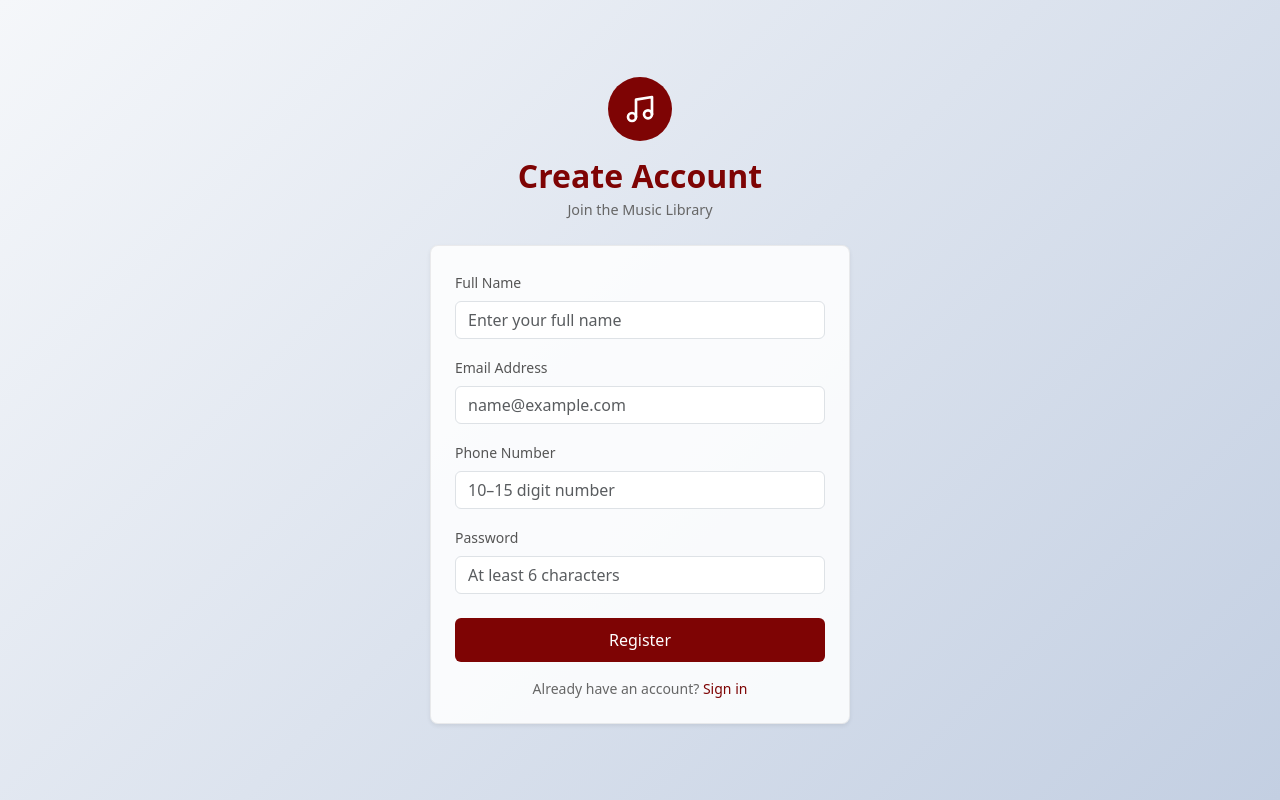
Register Page › should validate email format
The image size is (1280, 800).
Type "bademail" into the field with placeholder "name@example.com". click: (640, 405)
box: [455,386,825,424]
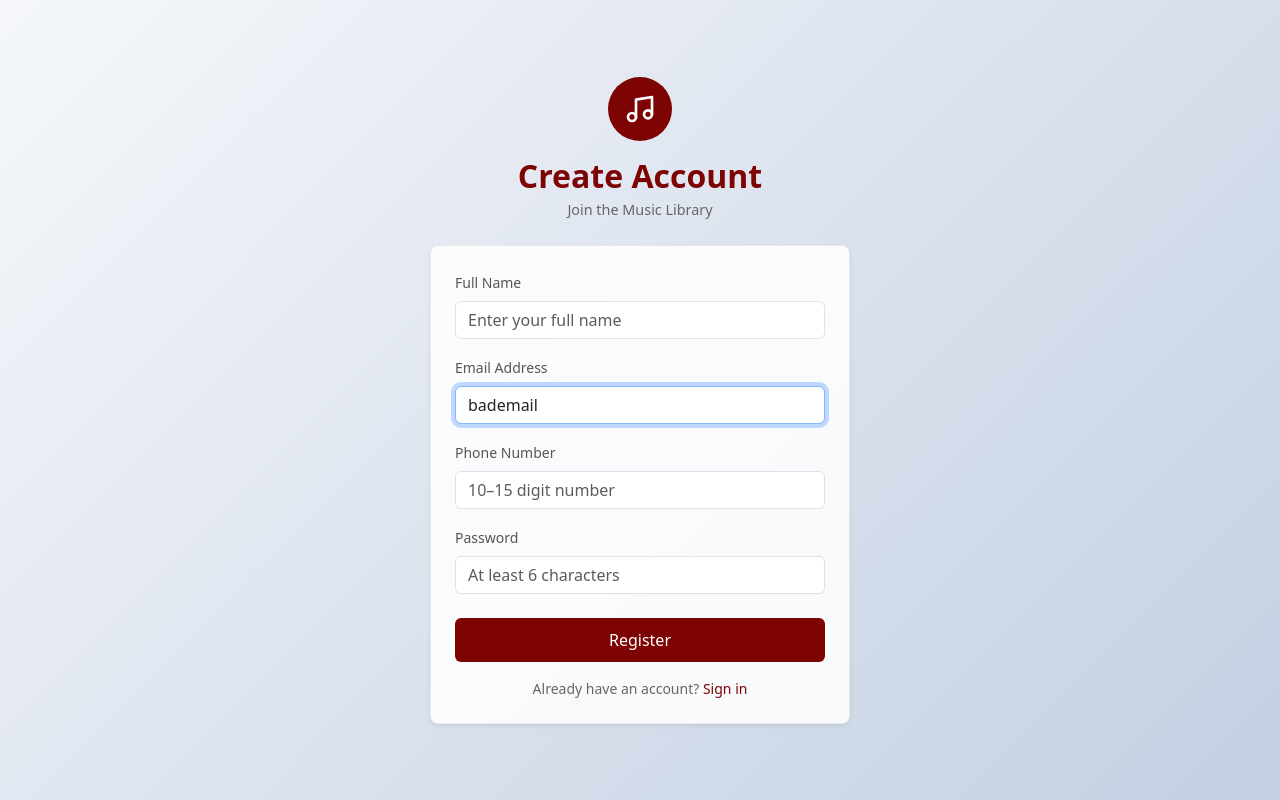
Leave the 2nd field, box [455,386,825,424]
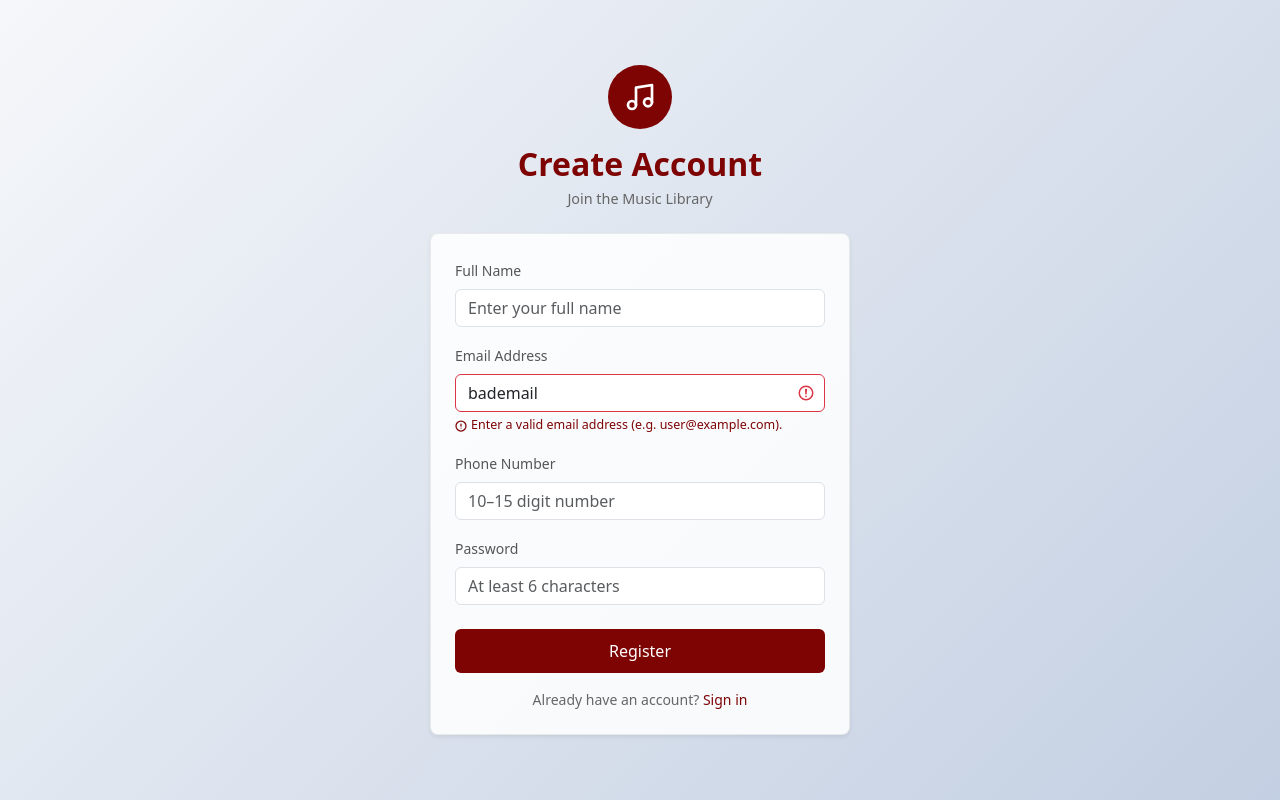
Expected: the text "Enter a valid email address" is shown, [471,416,782,433]
